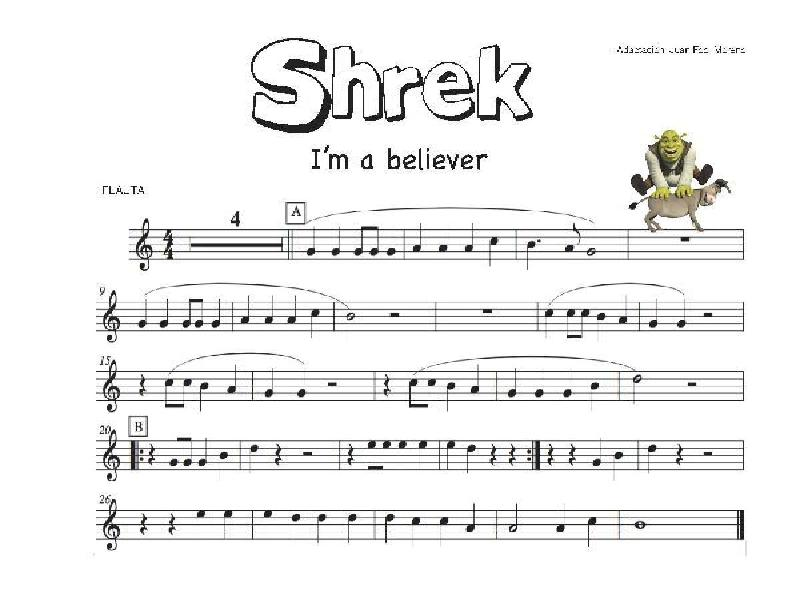B: (508, 502, 522, 534), (632, 374, 644, 403)
C: (563, 220, 583, 253), (162, 376, 179, 410), (176, 374, 190, 414), (181, 294, 196, 329), (407, 375, 419, 412), (577, 309, 589, 340), (564, 304, 574, 341), (354, 226, 366, 255), (195, 295, 205, 329), (185, 434, 194, 470), (371, 225, 381, 257)
CS: (102, 291, 122, 342), (102, 358, 120, 413), (102, 430, 121, 482), (136, 217, 153, 273), (103, 499, 118, 551)
N: (505, 365, 520, 397), (381, 512, 396, 543), (487, 235, 501, 268), (444, 381, 458, 413), (465, 223, 479, 255), (157, 297, 171, 328), (137, 298, 151, 329), (329, 225, 343, 255), (343, 513, 357, 543), (587, 515, 598, 550), (524, 239, 536, 271), (242, 294, 255, 323), (467, 503, 478, 537), (470, 363, 481, 397), (211, 297, 223, 328), (198, 438, 211, 466), (589, 379, 600, 412), (438, 518, 450, 548), (412, 223, 424, 253), (613, 451, 623, 483), (316, 513, 326, 543), (308, 226, 317, 258), (646, 445, 655, 477), (544, 307, 553, 339), (199, 380, 208, 412)
P: (535, 236, 544, 243)
R: (586, 245, 598, 262), (634, 521, 648, 533)
SB: (301, 450, 317, 462), (685, 380, 702, 391), (677, 235, 693, 246), (701, 308, 714, 319), (389, 311, 402, 321), (702, 447, 713, 458), (328, 378, 337, 390), (483, 305, 492, 315)
SN: (379, 371, 390, 398), (138, 513, 150, 536), (166, 513, 178, 534), (488, 444, 498, 468), (547, 442, 556, 468), (674, 443, 684, 466), (137, 374, 147, 396), (509, 441, 517, 468), (146, 442, 155, 465), (274, 443, 283, 466), (568, 444, 576, 469), (348, 441, 355, 468)
